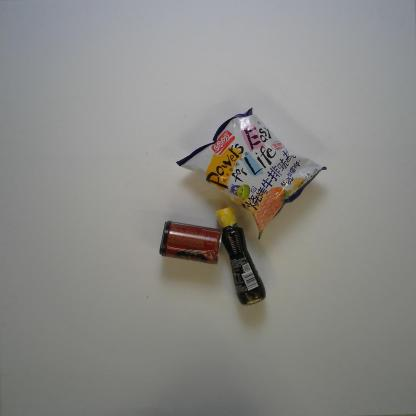Canned Food: (159, 219, 224, 266)
Puffed Food: (175, 106, 328, 242)
Seasoner: (215, 206, 266, 308)
